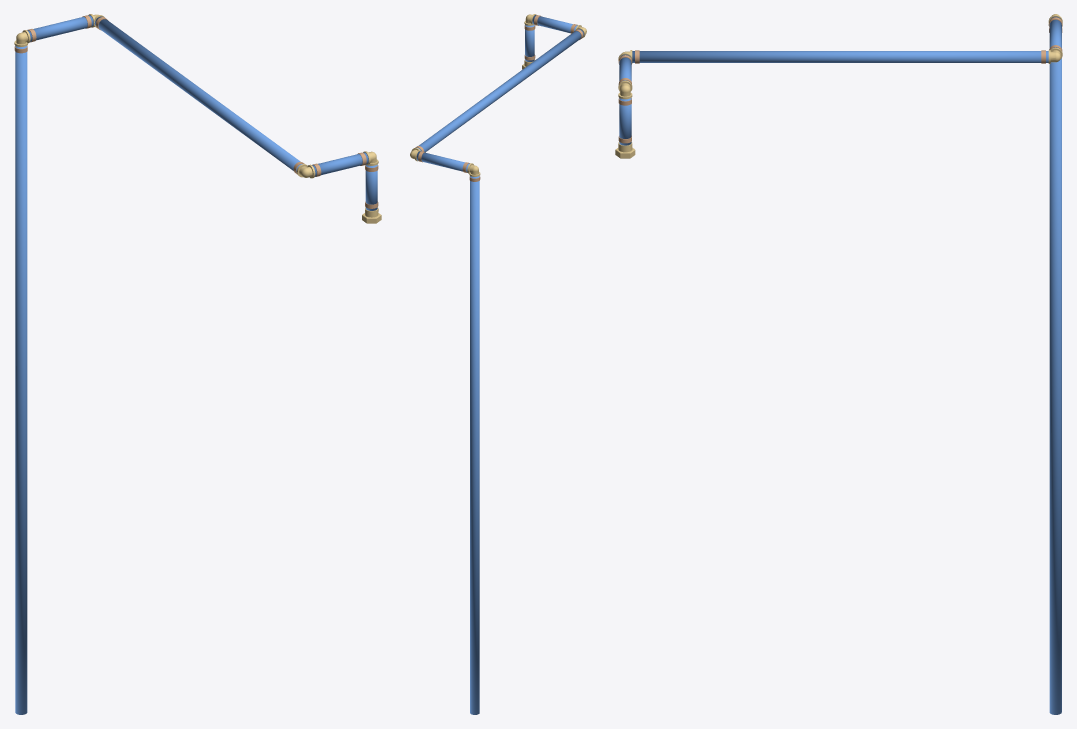
The model's file is slab_pipes_supply__water-city_filter_and_softener-yes_and_plumbing-pex+attic_repipe+pex_branch.glb.
3 views of the same model, side by side, from view 1: azimuth 30°, elevation 25°; view 2: azimuth 150°, elevation 25°; view 3: azimuth 270°, elevation 25° (orthographic). The views are drawn at different scales.
Visible parts, largest first — view 1: pipe_supply_to_softener__pex; view 2: pipe_supply_to_softener__pex; view 3: pipe_supply_to_softener__pex.
Part boxes in pixels (x1,y1,x2,y2): pipe_supply_to_softener__pex: [15, 15, 377, 714]; pipe_supply_to_softener__pex: [416, 15, 584, 714]; pipe_supply_to_softener__pex: [619, 16, 1061, 714].
Bounding box in the file's own units: 0.3315 × 1.4 × 0.8101.
